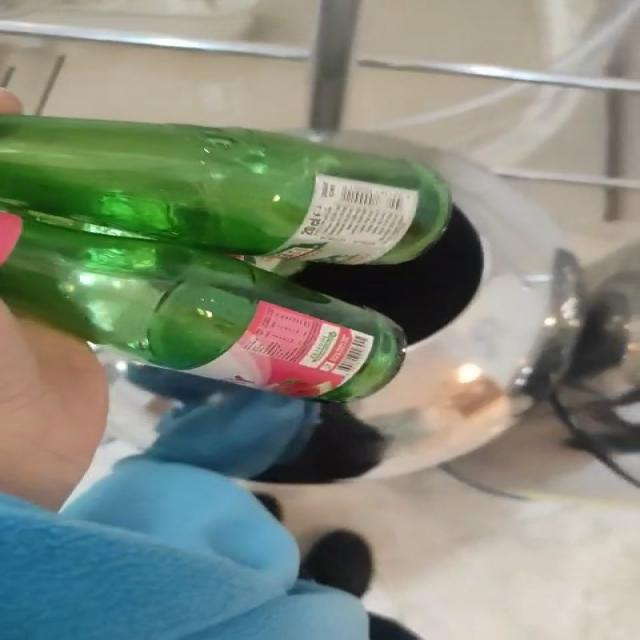glass: (0, 115, 452, 401)
